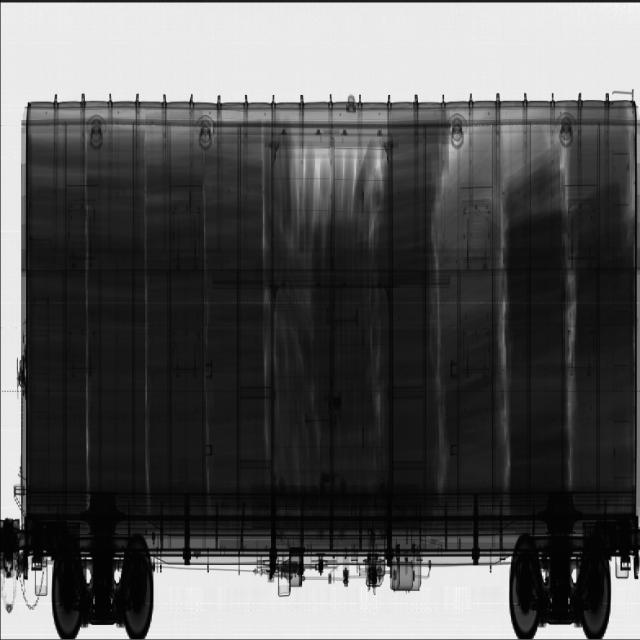fabrics: (27, 118, 631, 512)
